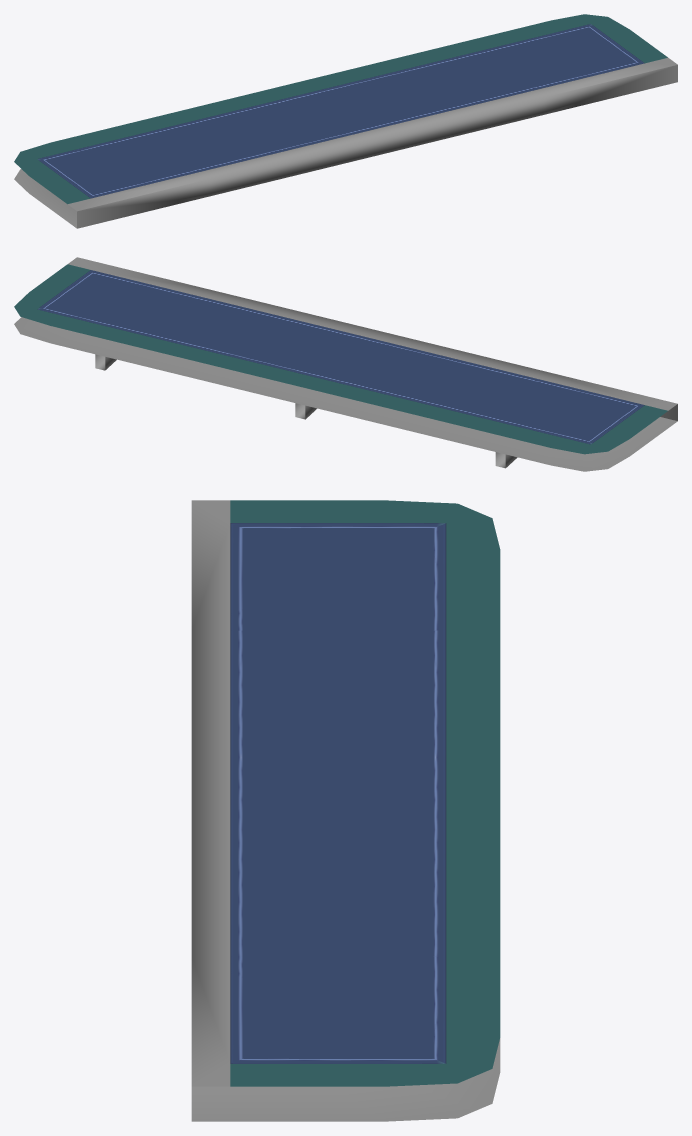
File: IceMaze_Ledge00.FBX
3 views of the same model, one above another, from view 1: azimuth 30°, elevation 25°; view 2: azimuth 150°, elevation 25°; view 3: azimuth 270°, elevation 25° (orthographic). The views are drawn at different scales.
Parts seen in each view (by area): view 1: IceMaze_Ledge00_Floor, IceMaze_Ledge00; view 2: IceMaze_Ledge00_Floor, IceMaze_Ledge00; view 3: IceMaze_Ledge00_Floor, IceMaze_Ledge00.
Part boxes in pixels (x1,y1,x2,y2): IceMaze_Ledge00_Floor: (14, 14, 667, 204); IceMaze_Ledge00: (14, 57, 677, 228); IceMaze_Ledge00_Floor: (14, 264, 667, 454); IceMaze_Ledge00: (14, 257, 677, 471); IceMaze_Ledge00_Floor: (230, 500, 500, 1086); IceMaze_Ledge00: (191, 500, 500, 1121).
Bounding box in the file's own units: 18 × 0.9 × 4.
